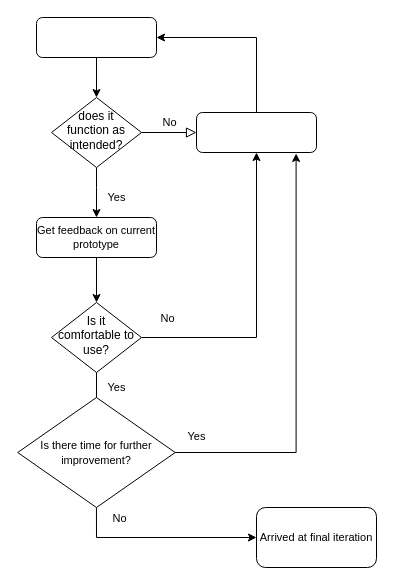
This 394x585 diagram has some shape labels left out. The shapes that lost their labels are listed below. From the top down, each one's centre as x and y in pixels, then its label:
pixel 96 37: Create Controller iteration
pixel 256 132: Redesign controller
